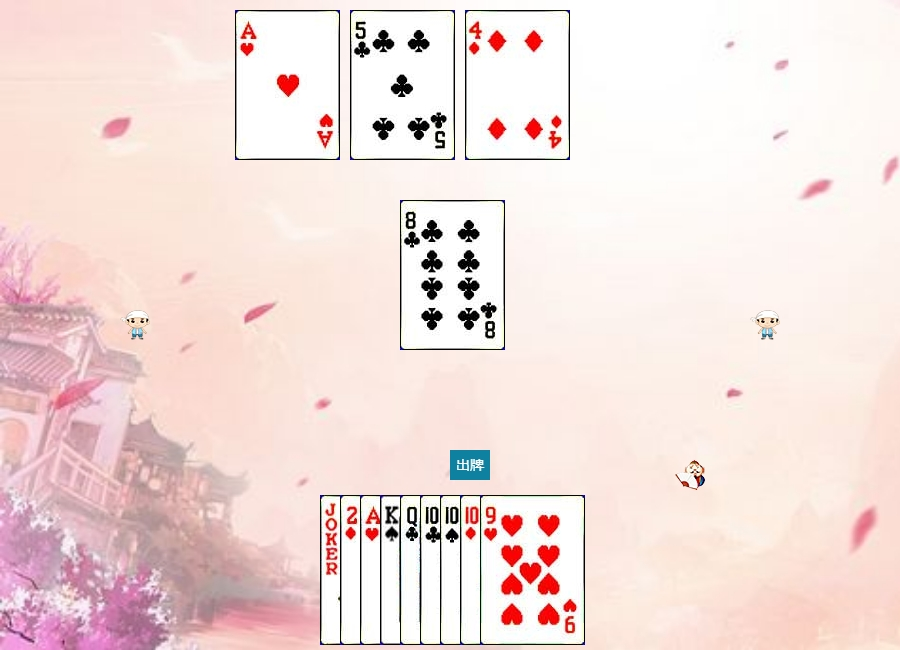10~1: (460, 495, 565, 645)
10~2: (420, 495, 525, 645)
10~4: (440, 495, 545, 645)
12~2: (400, 495, 505, 645)
13~4: (380, 495, 485, 645)
14~3: (235, 10, 340, 160), (360, 495, 465, 645)
15~1: (340, 495, 445, 645)
18~4: (320, 495, 425, 645)
4~1: (465, 10, 570, 160)
5~2: (350, 10, 455, 160)
8~2: (400, 200, 505, 350)
9~3: (480, 495, 585, 645)
